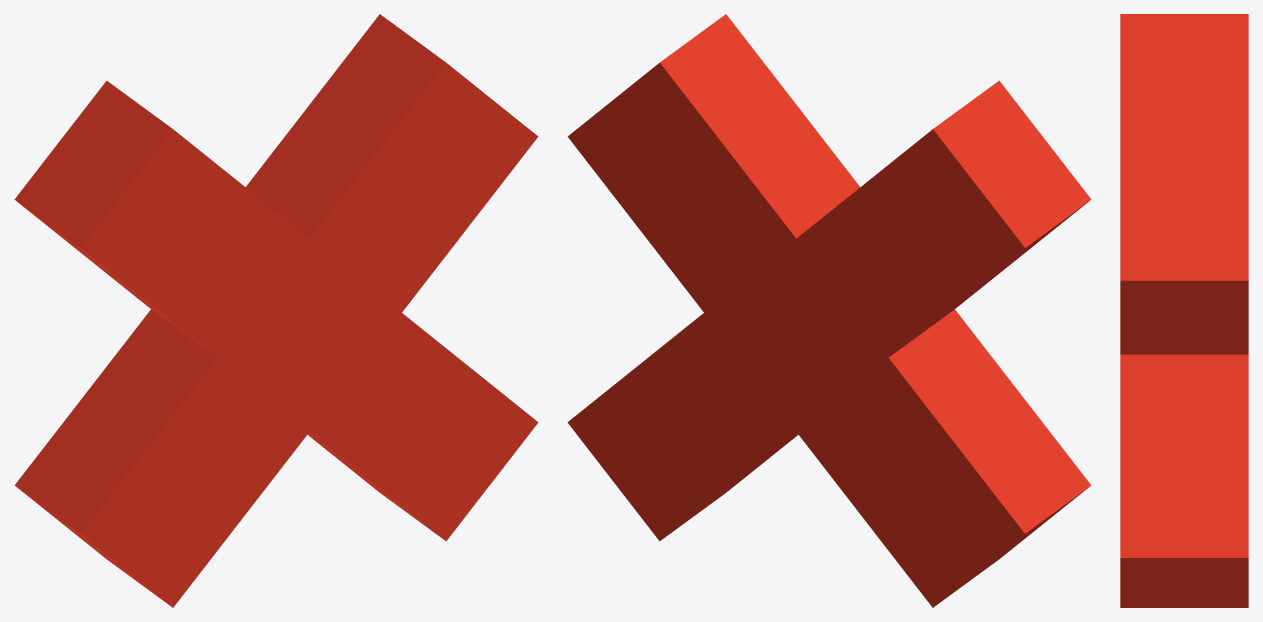
Rendered from Icon_Symbol_Multiply.fbx.
3 views of the same model, side by side, from view 1: azimuth 30°, elevation 25°; view 2: azimuth 150°, elevation 25°; view 3: azimuth 270°, elevation 25° (orthographic). The views are drawn at different scales.
Visible parts, largest first — view 1: Icon_Symbol_Multiply; view 2: Icon_Symbol_Multiply; view 3: Icon_Symbol_Multiply.
Part boxes in pixels (box(x1,y1,x2,y2)): Icon_Symbol_Multiply: box(14, 14, 538, 607); Icon_Symbol_Multiply: box(567, 14, 1091, 607); Icon_Symbol_Multiply: box(1120, 14, 1248, 607).
Size of the model in its own units: 48.09 by 48.09 by 12.06.
